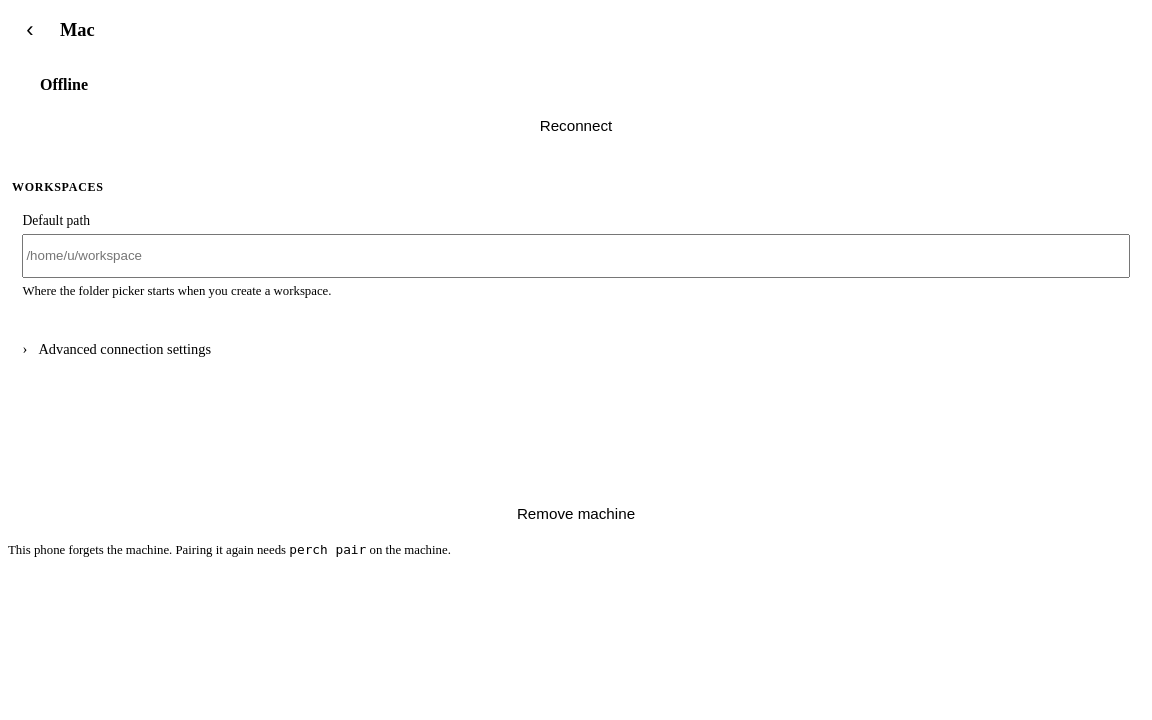
Test: MachineDetail › removing › keeps the machine on Cancel
This screenshot has width=1152, height=720.
Click the button "Remove machine". click: (576, 513)
box: [8,491,1144,535]
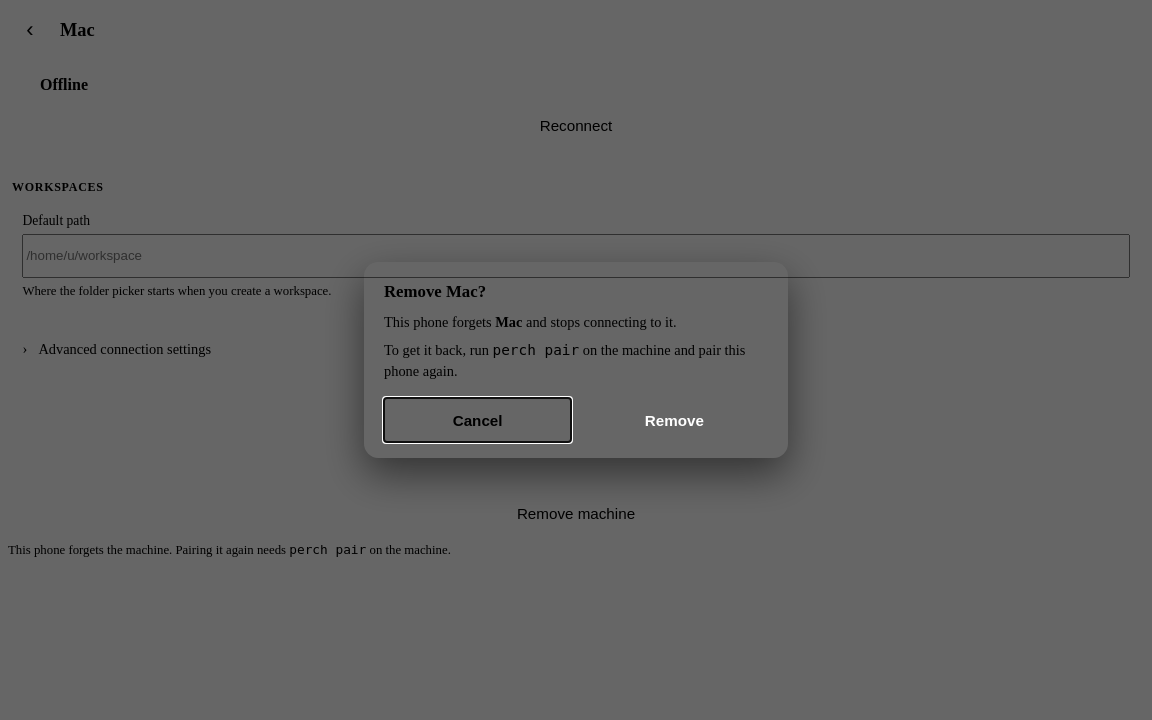
Click the button "Cancel". click: (478, 420)
box: [384,398,571,442]
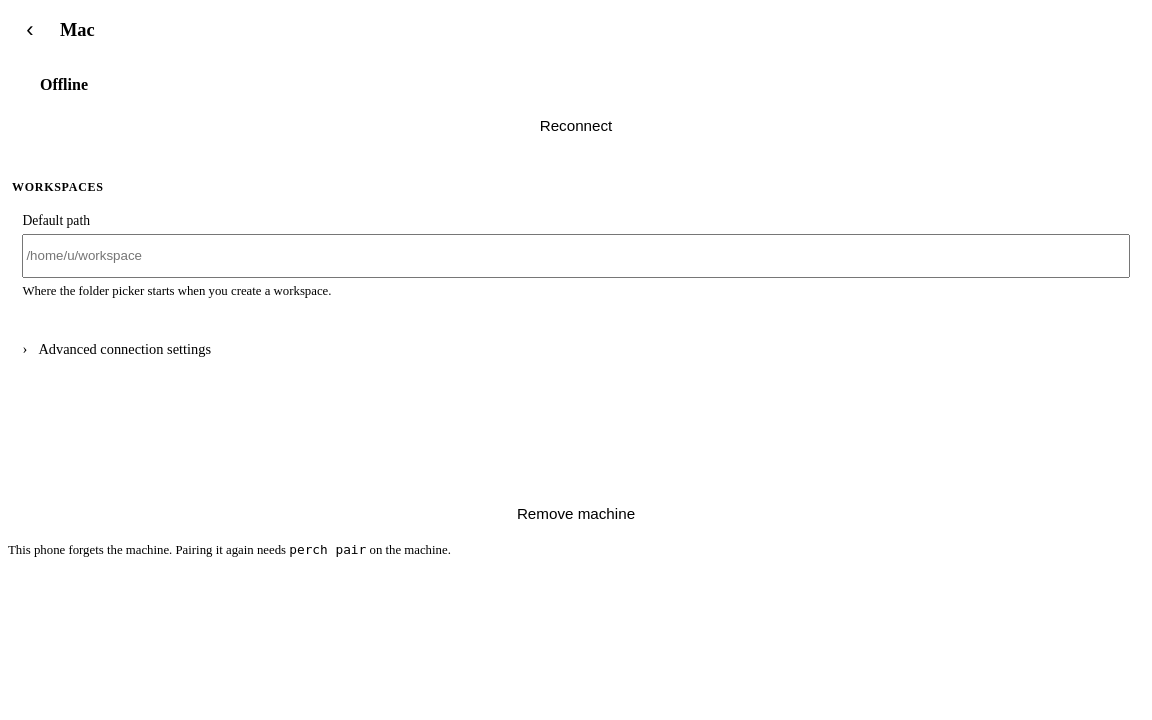
expect the dialog is gone: met
